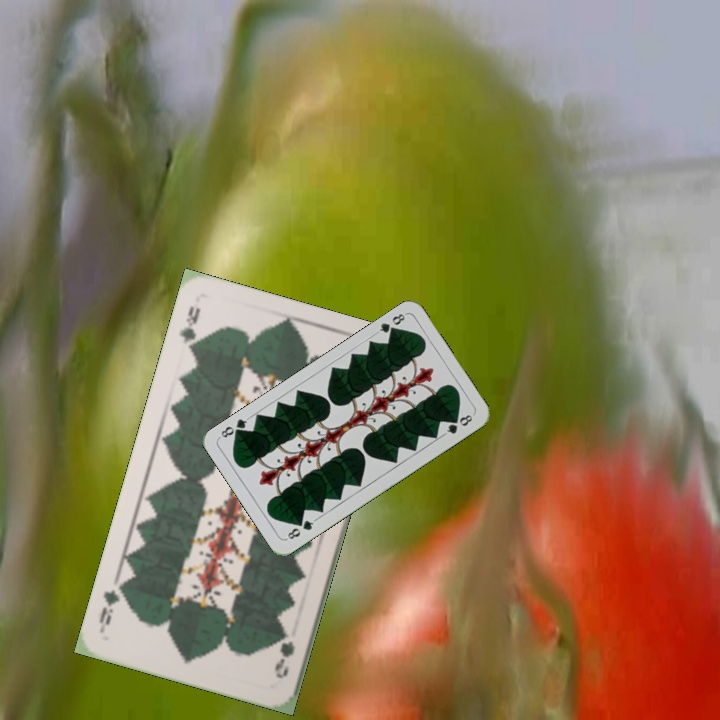G8: (372, 309, 408, 338), (282, 515, 318, 542)
G9: (270, 626, 298, 681), (175, 302, 203, 357)
